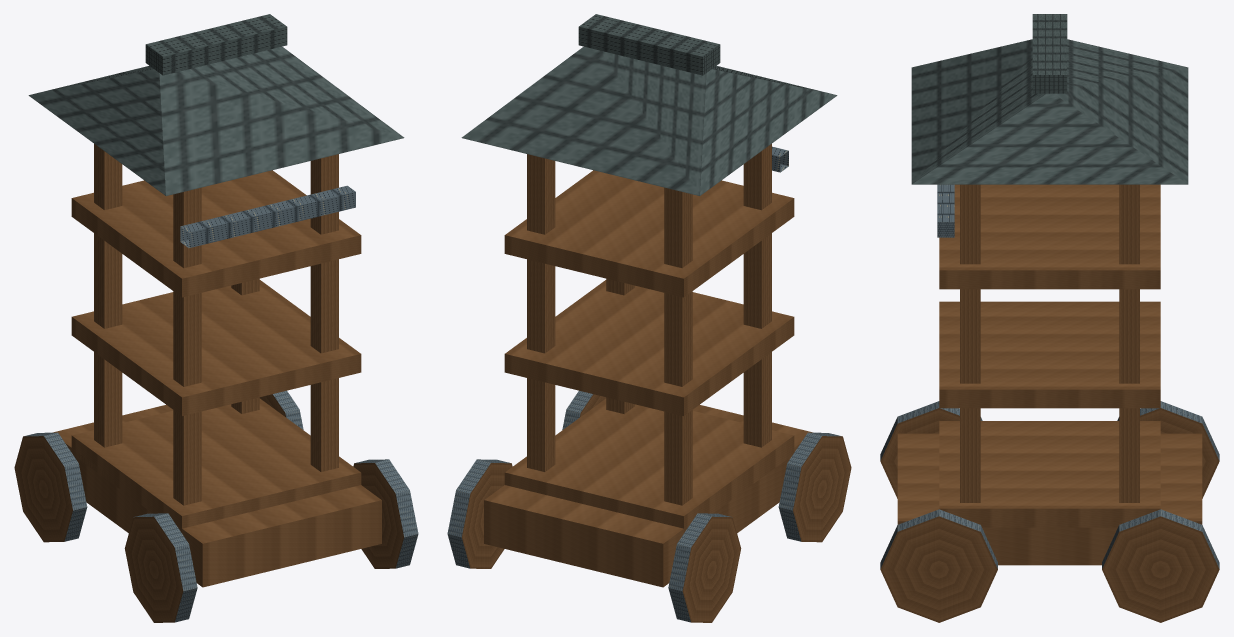
File: unit-SIEGE_TOWER-lod1.glb
The picture shows the model from 3 angles, left to right: view 1: azimuth 30°, elevation 25°; view 2: azimuth 150°, elevation 25°; view 3: azimuth 270°, elevation 25°; orthographic projection.
Size of the model in its own units: 0.4 by 0.83 by 0.49.
Materials: 1 (1 with a texture image).
